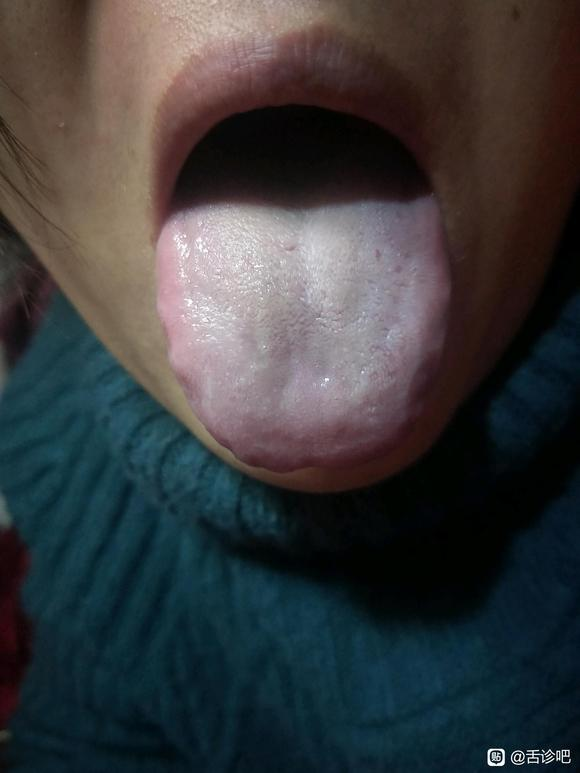baitaishe: (155, 137, 452, 470)
chihenshe: (157, 283, 236, 458), (403, 291, 452, 431)
pangdashe: (155, 137, 452, 470)
